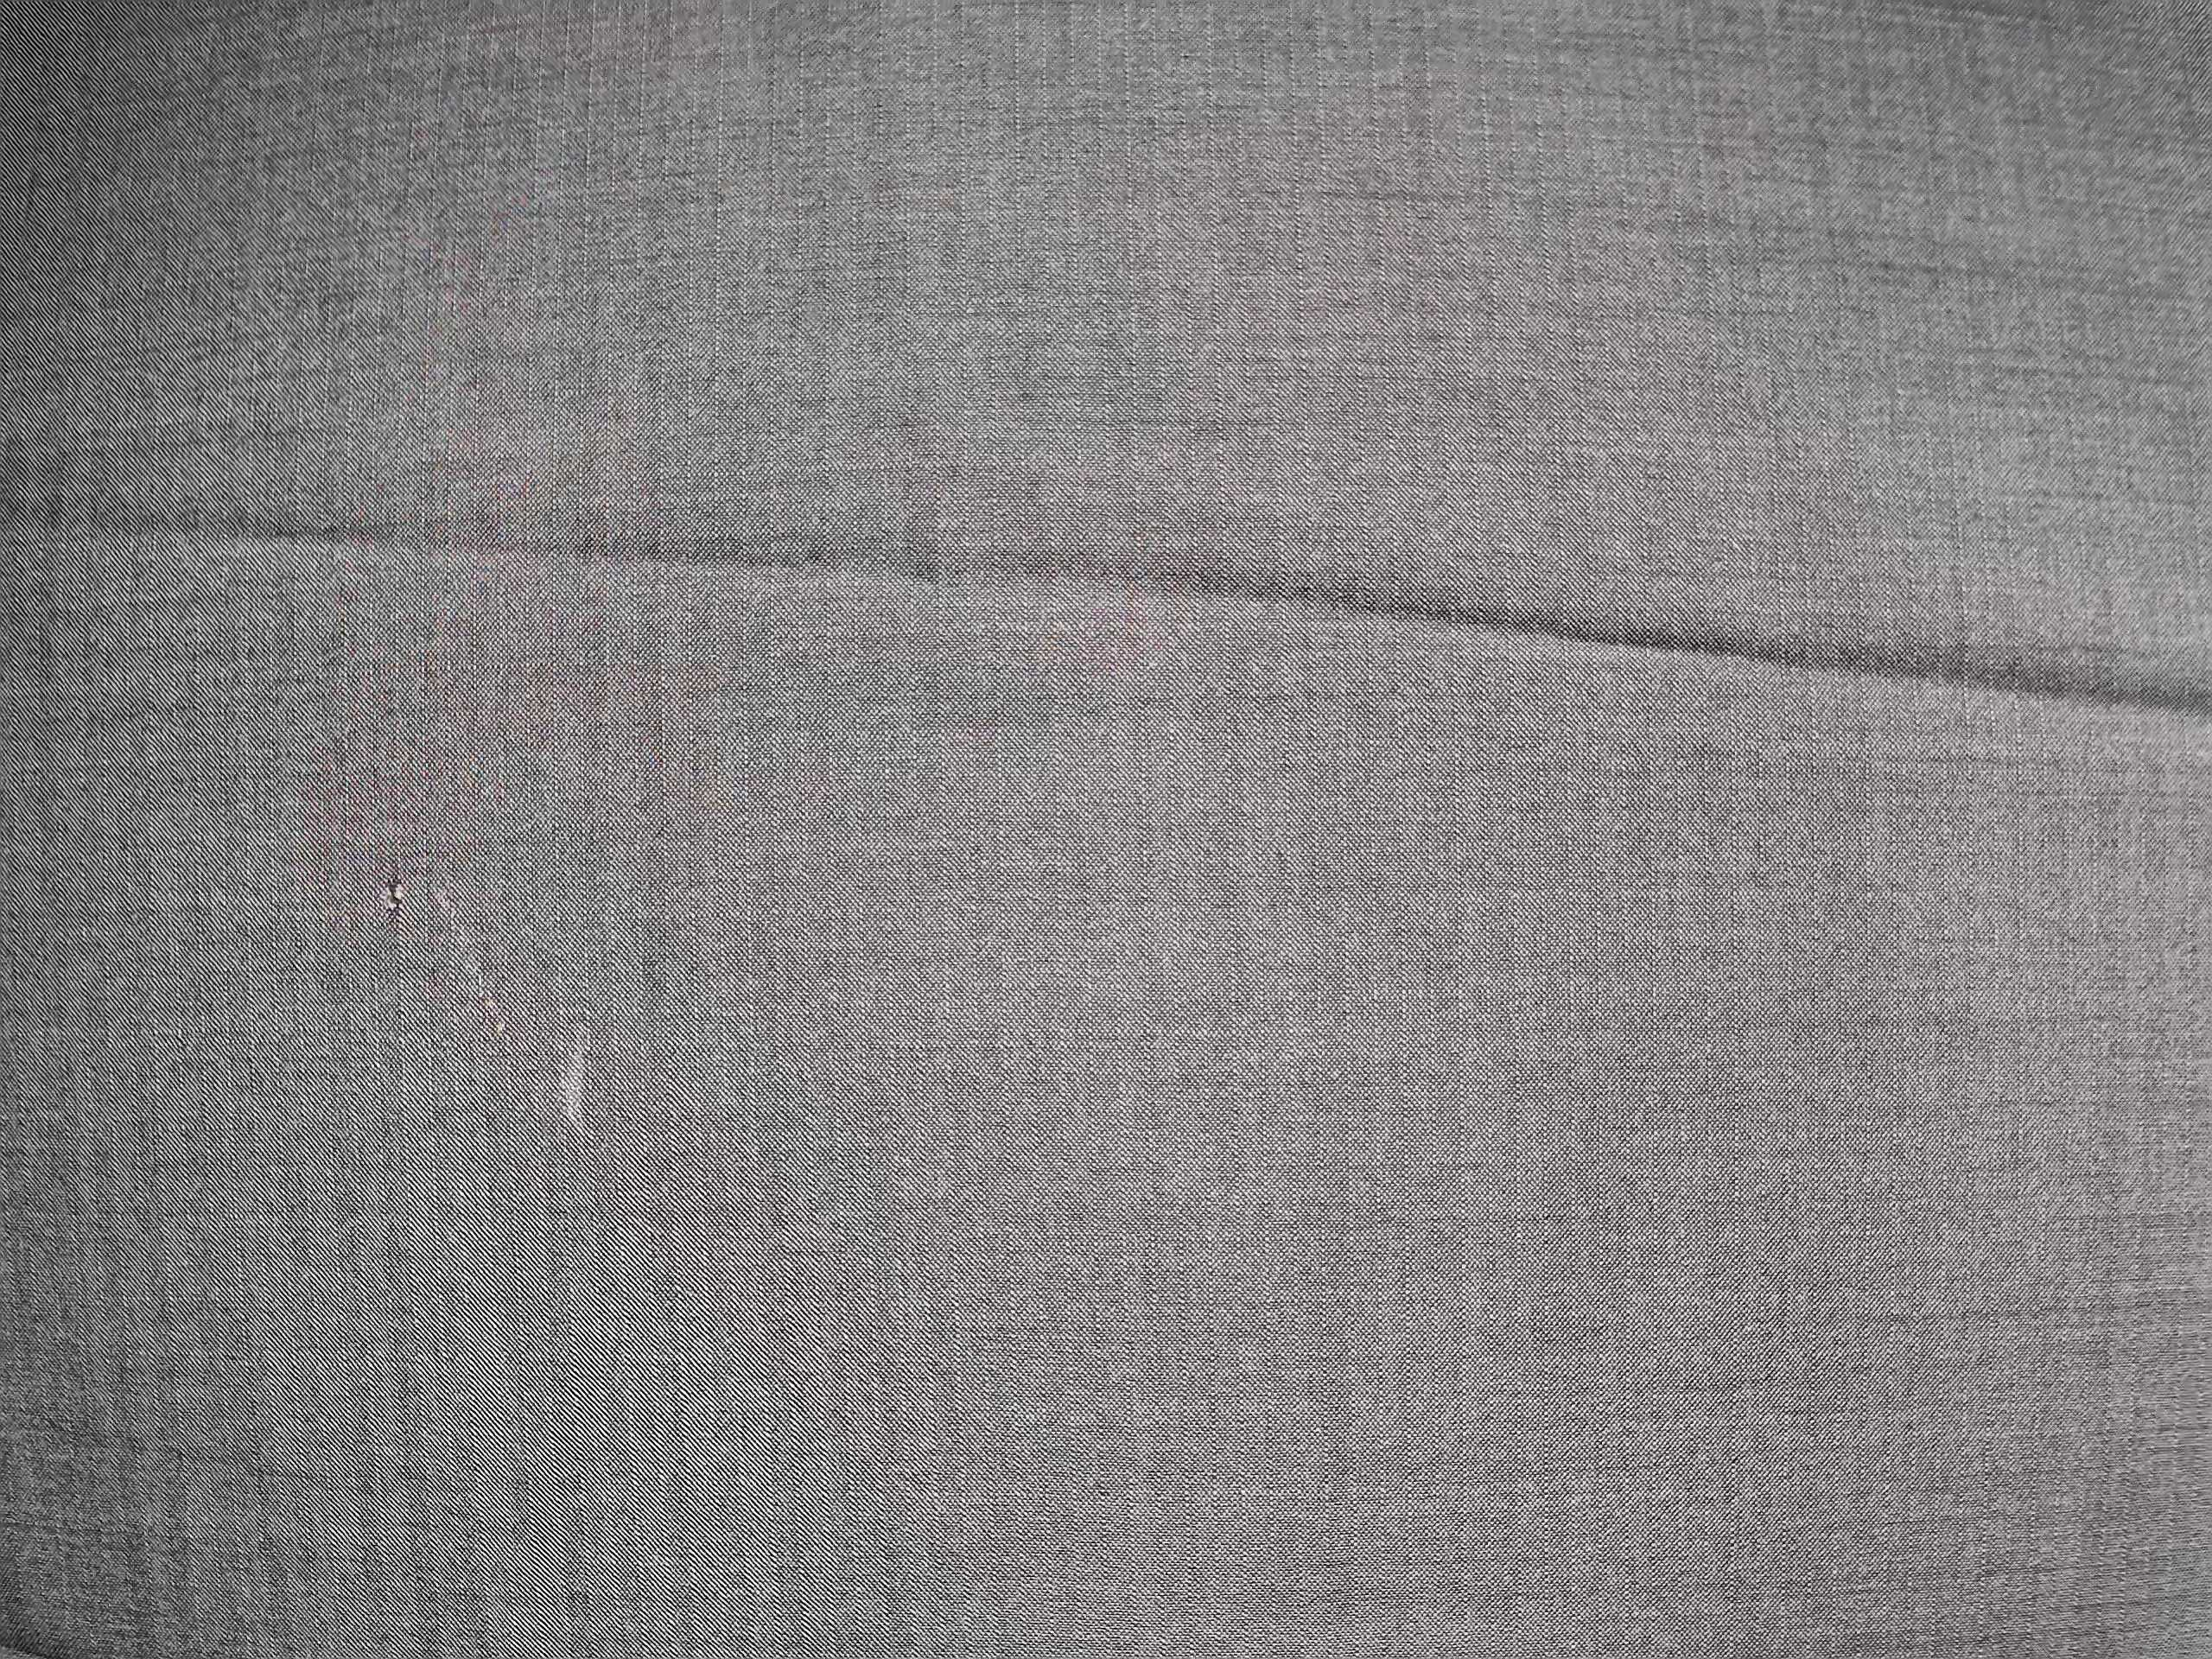rubbing-hole: (362, 864, 432, 939)
